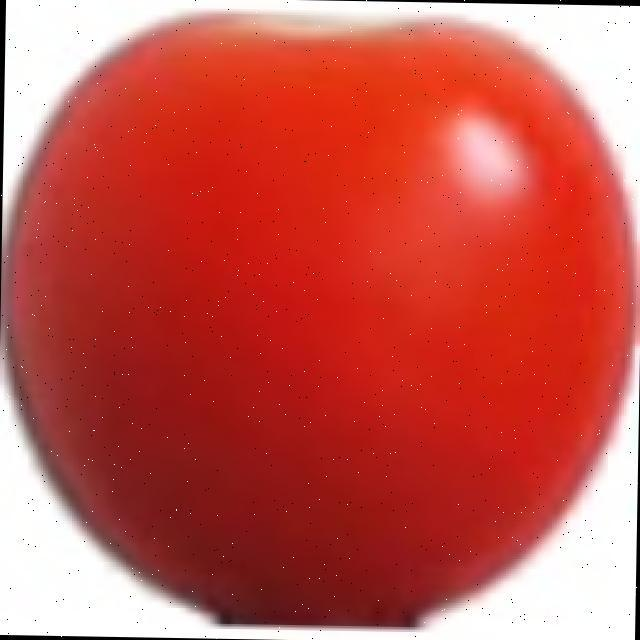tomato: (2, 3, 639, 629)
